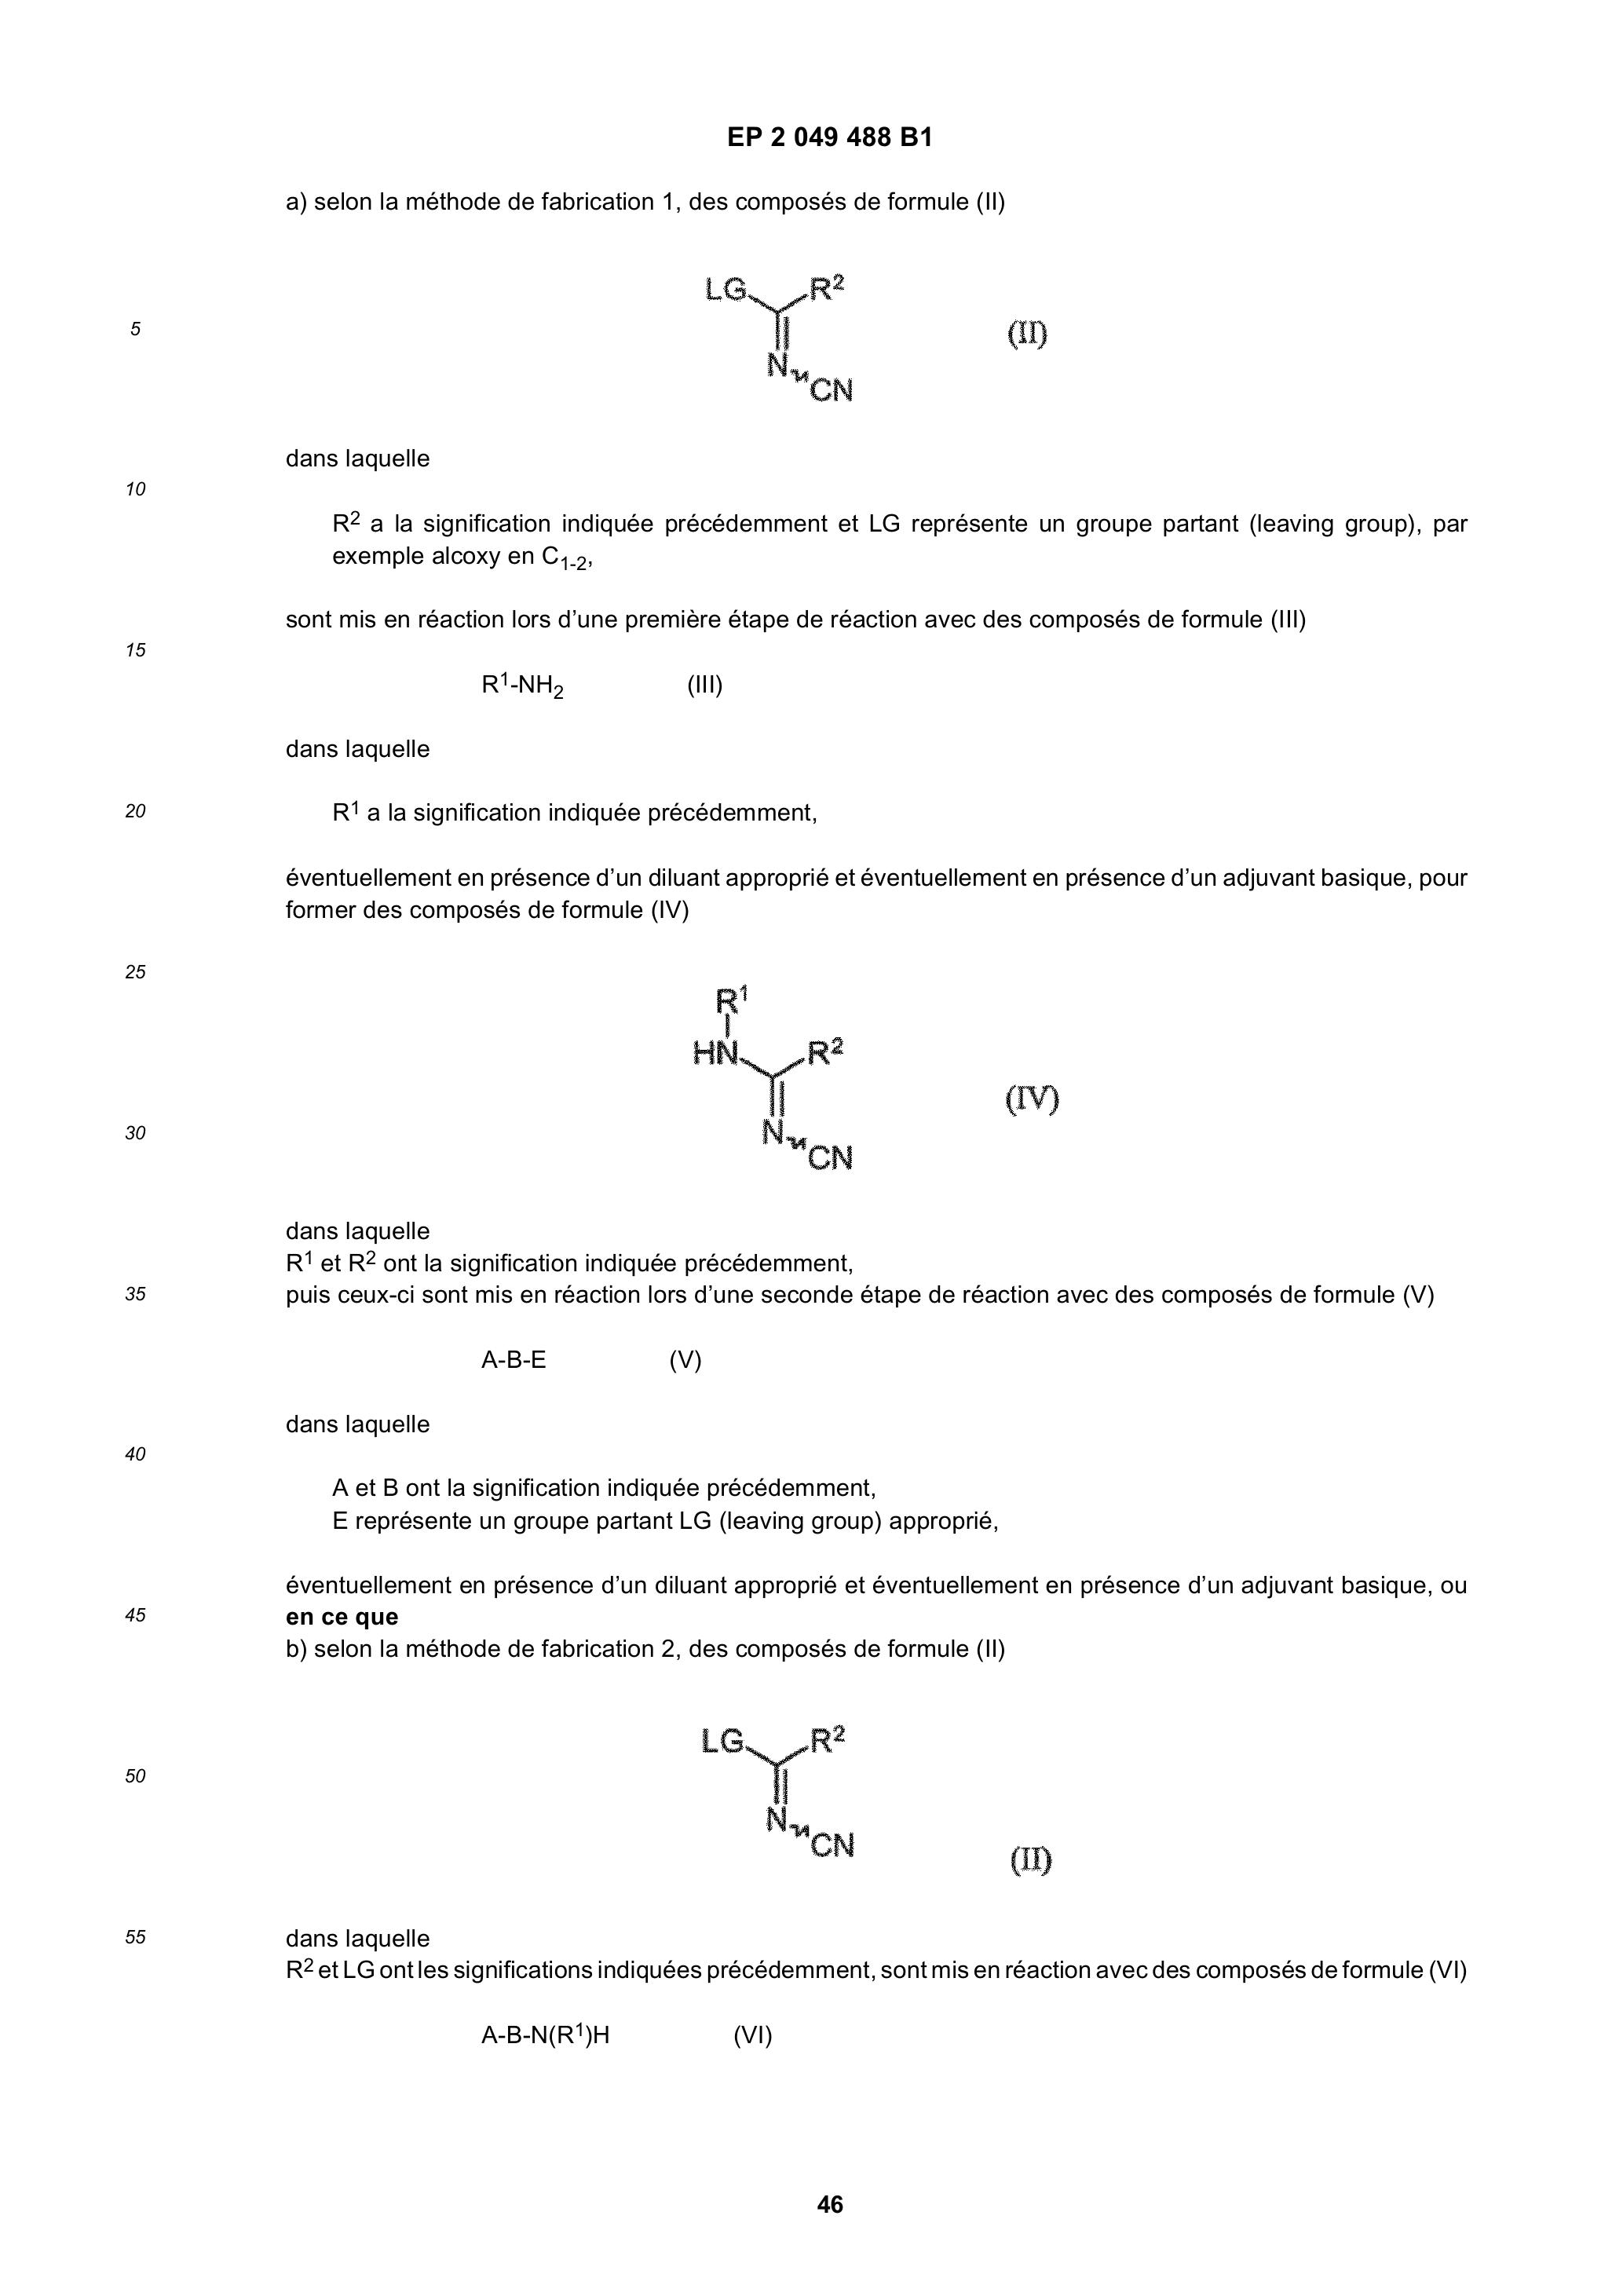markush-structures: (680, 952, 859, 1193), (660, 1702, 864, 1867), (682, 249, 884, 411)
